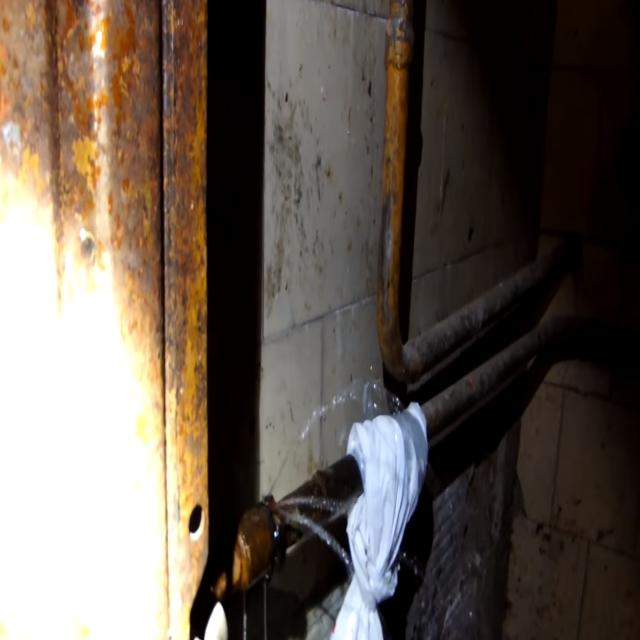leak: (268, 379, 402, 498), (276, 490, 360, 576)
